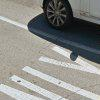Crosswalk: (4, 32, 99, 100)
